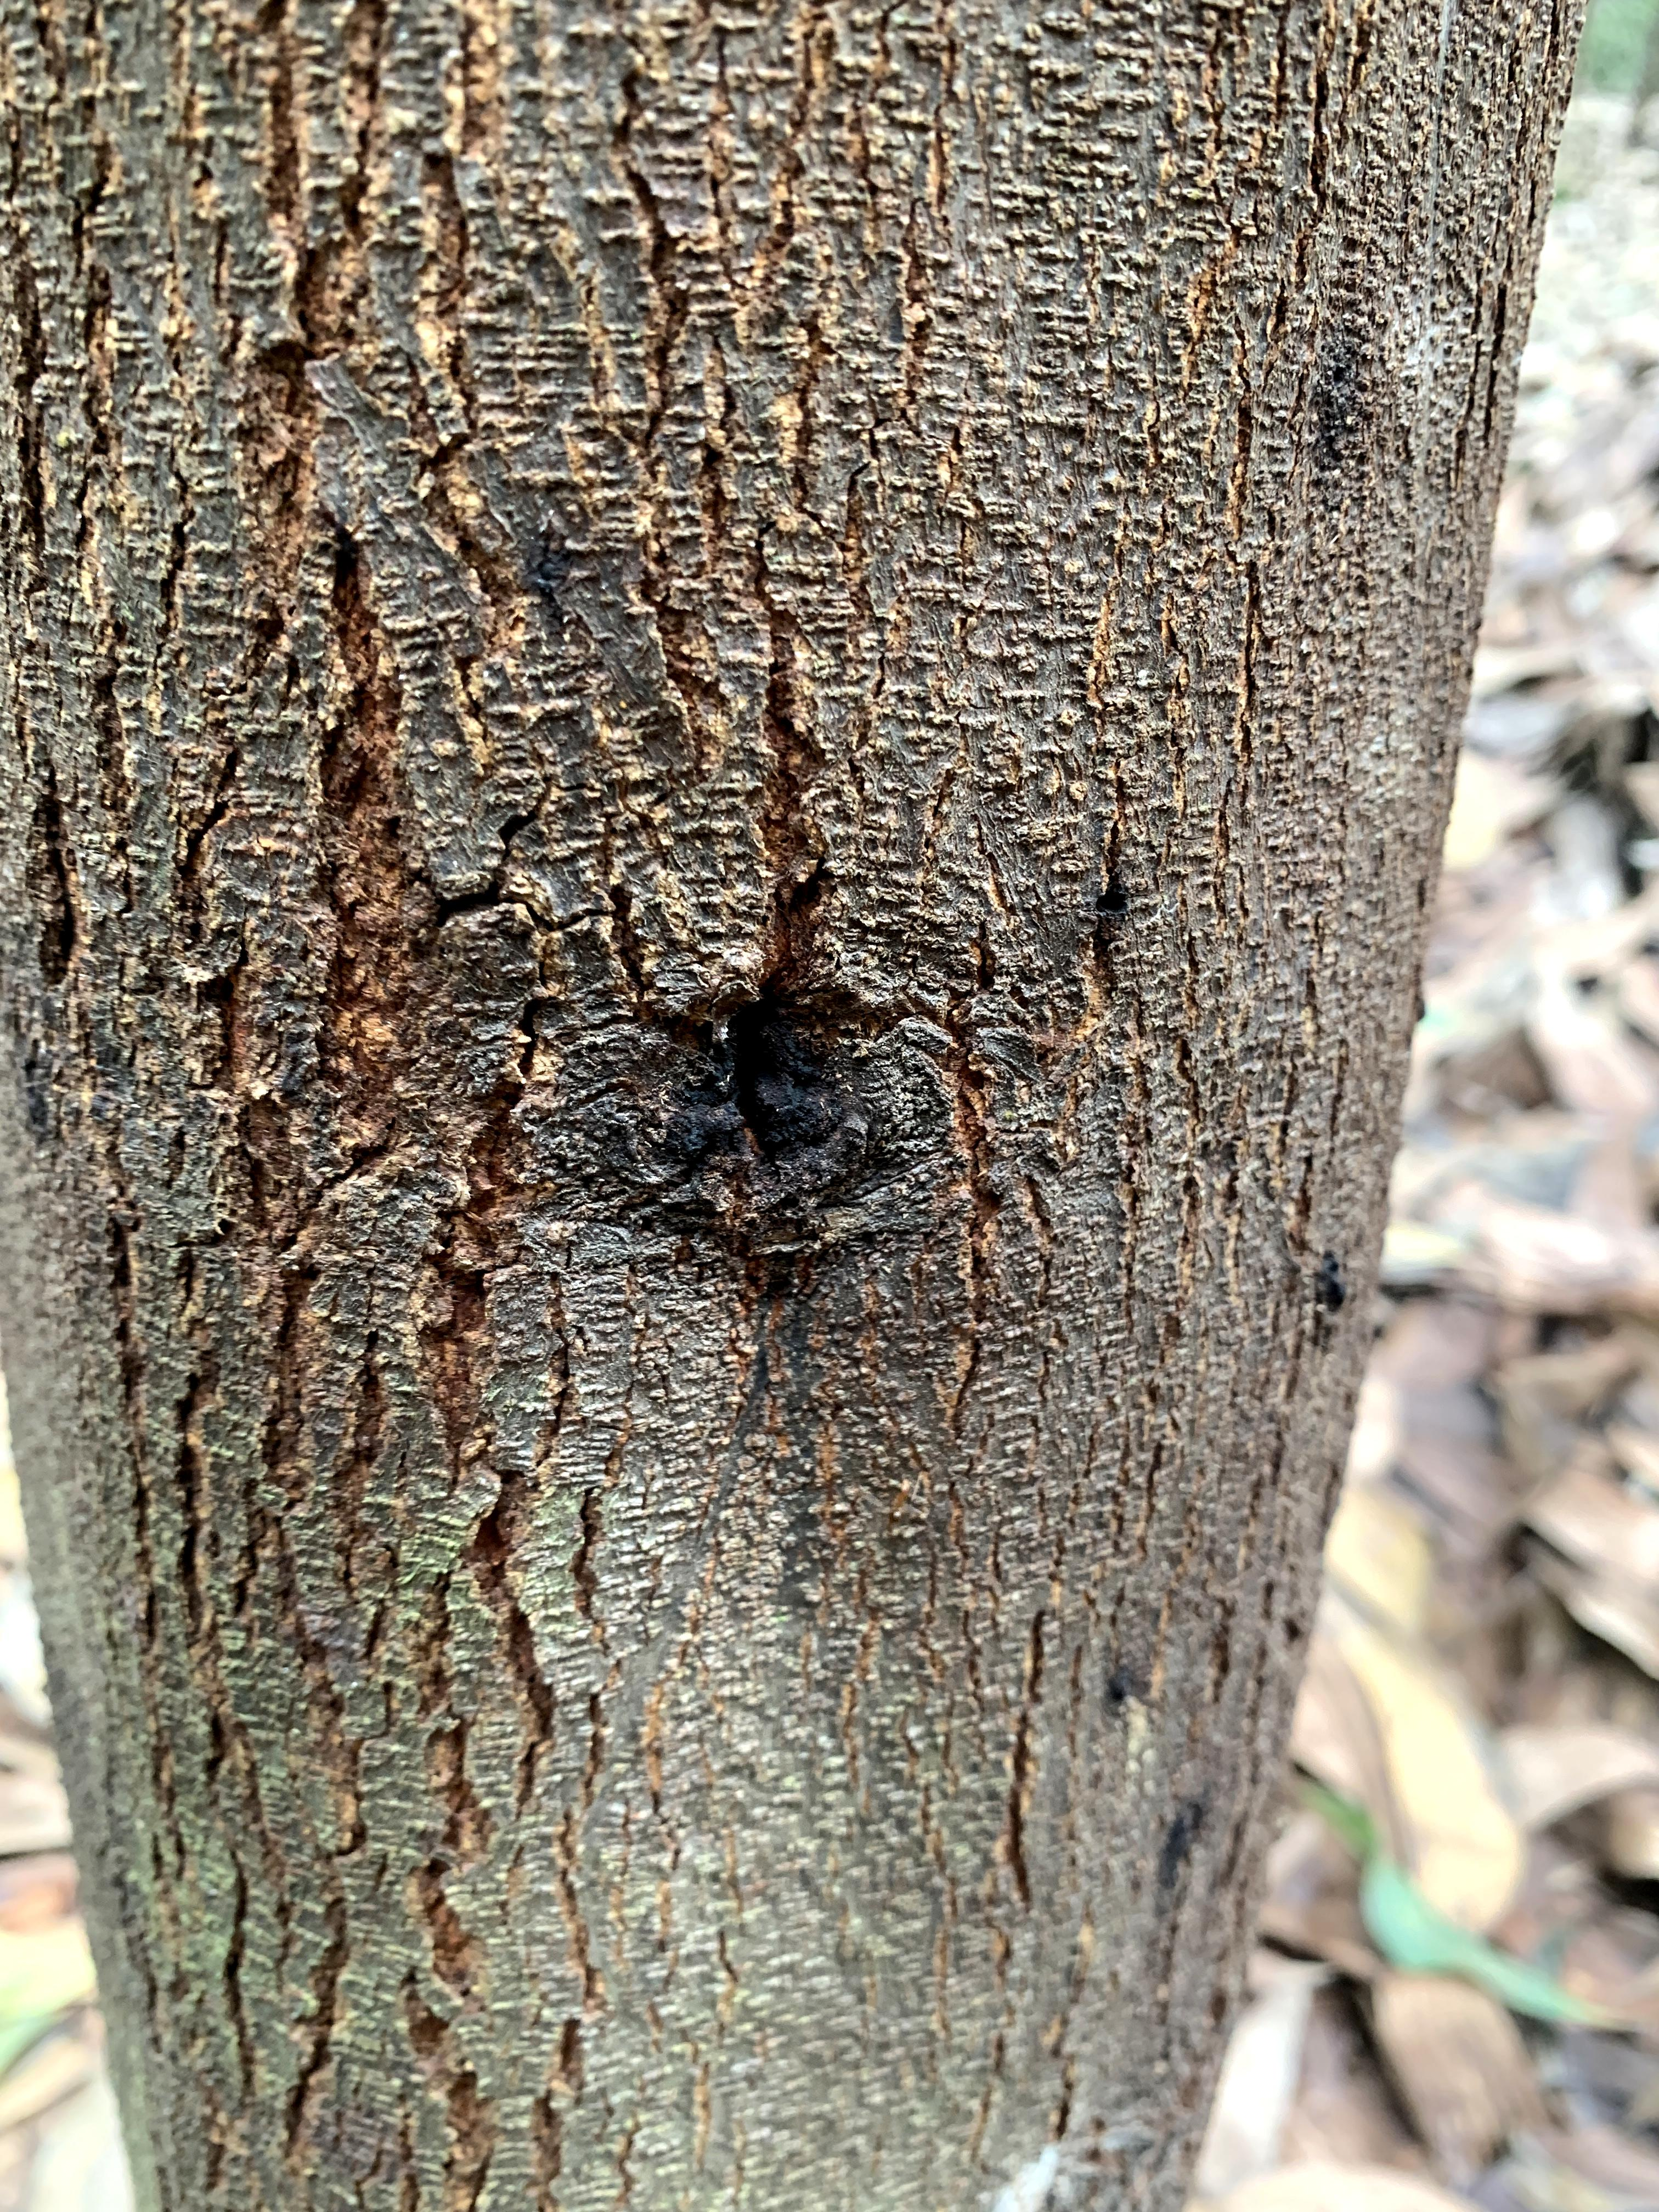Stem Borer: (626, 857, 978, 1329)
